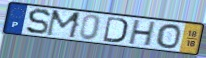0: (78, 14, 103, 41)
D: (102, 16, 129, 45)
H: (126, 20, 158, 48)
M: (44, 9, 84, 40)
O: (155, 23, 183, 50)
S: (24, 8, 52, 36)
